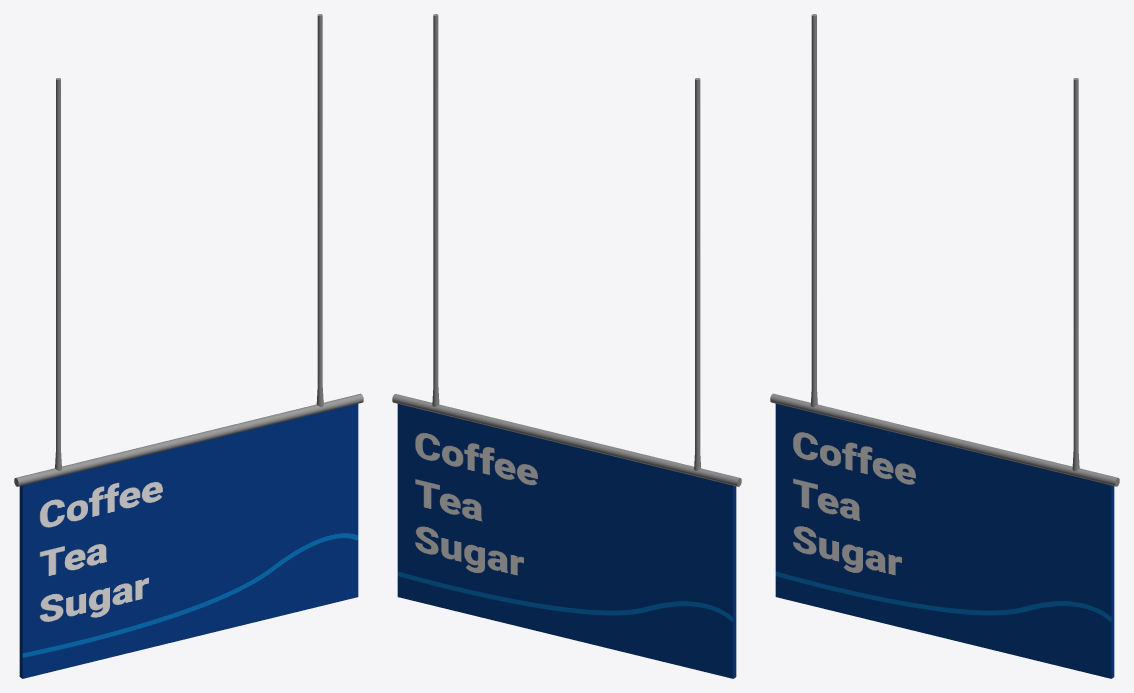
The model's file is Ceiling picture 1.fbx.
3 views of the same model, side by side, from view 1: azimuth 30°, elevation 25°; view 2: azimuth 150°, elevation 25°; view 3: azimuth 330°, elevation 25° (orthographic).
Visible parts, largest first — view 1: Ceiling picture 1; view 2: Ceiling picture 1; view 3: Ceiling picture 1.
Boxes of the visible parts, x1,y1,x2,y2 form: Ceiling picture 1: (14, 14, 363, 678); Ceiling picture 1: (392, 14, 741, 678); Ceiling picture 1: (770, 14, 1119, 678).
Size of the model in its own units: 48.47 by 79.18 by 1.12.
2 materials, 1 textured.
